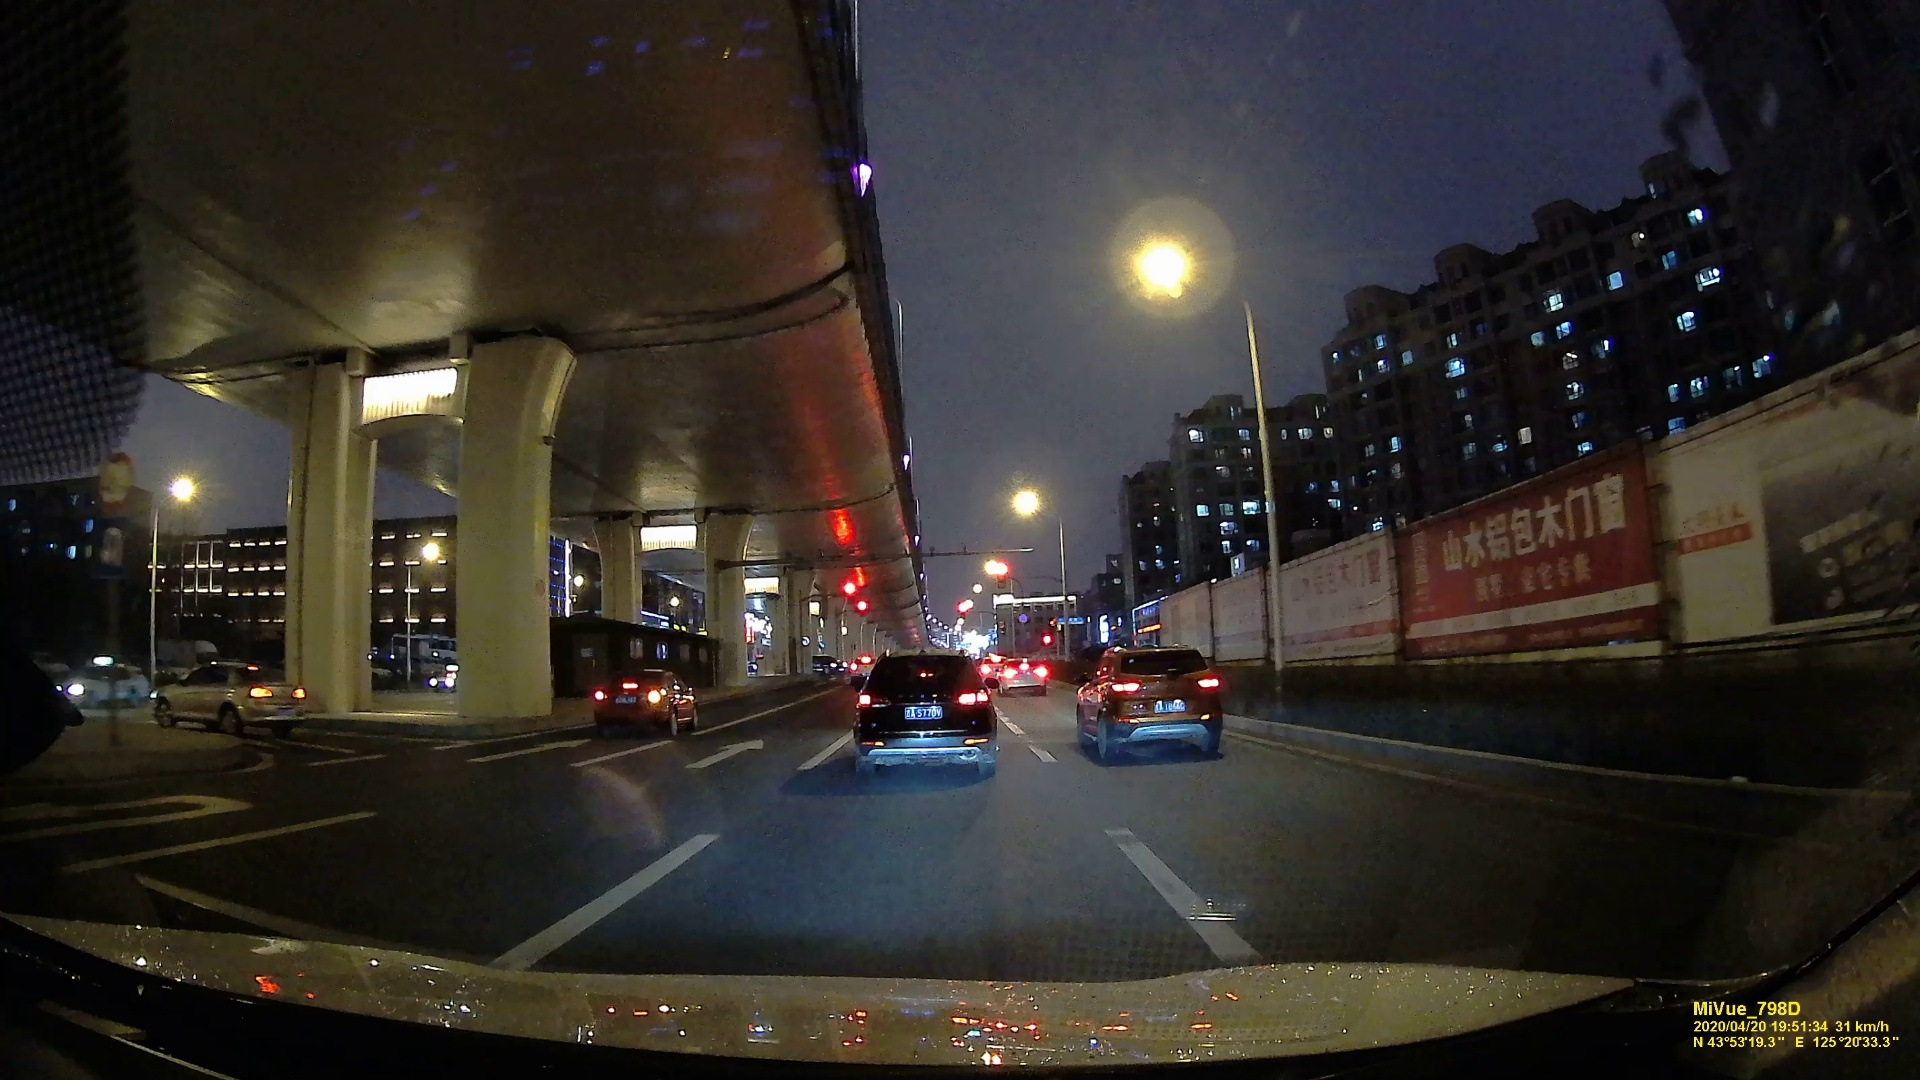traffic_sign: (997, 562, 1007, 589)
vehicle: (851, 645, 1002, 781), (1076, 644, 1226, 760), (161, 659, 302, 733), (592, 667, 698, 732), (62, 658, 146, 708), (997, 657, 1048, 698), (419, 673, 454, 690)
